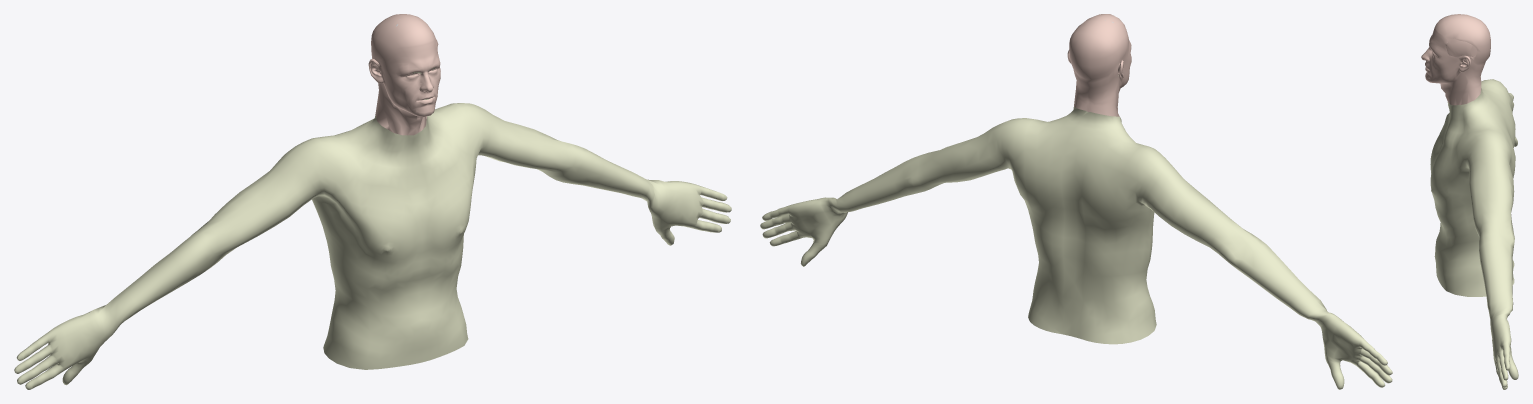
The model's file is Patient Body.fbx.
3 views of the same model, side by side, from view 1: azimuth 30°, elevation 25°; view 2: azimuth 150°, elevation 25°; view 3: azimuth 270°, elevation 25° (orthographic). The views are drawn at different scales.
Parts seen in each view (by area): view 1: body.001, Head; view 2: body.001, Head; view 3: body.001, Head, Big Cut.
Part boxes in pixels (x1,y1,x2,y2): body.001: (14, 103, 731, 389); Head: (368, 14, 440, 135); body.001: (760, 107, 1392, 389); Head: (1067, 14, 1131, 116); body.001: (1430, 79, 1518, 389); Head: (1421, 14, 1490, 105); Big Cut: (1446, 38, 1477, 57).
Size of the model in its own units: 169 by 75.52 by 25.88.
